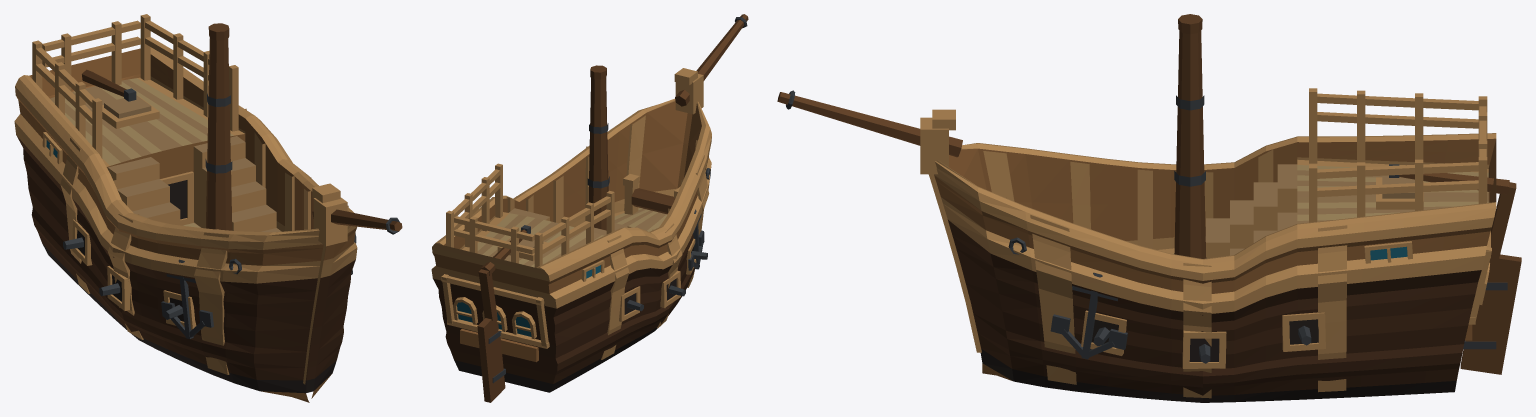
File: pirate-sloop-hull-89cd04.glb
3 views of the same model, side by side, from view 1: azimuth 30°, elevation 25°; view 2: azimuth 150°, elevation 25°; view 3: azimuth 270°, elevation 25° (orthographic). The views are drawn at different scales.
Visible parts, largest first — view 1: object 1, anchors, rudder; view 2: object 1, rudder, anchors; view 3: object 1, rudder, anchors.
Part boxes in pixels (x1,y1,x2,y2): object 1: (14, 14, 402, 402); anchors: (161, 259, 213, 338); rudder: (82, 69, 136, 101); object 1: (431, 14, 748, 392); rudder: (477, 225, 530, 402); anchors: (688, 209, 704, 270); object 1: (777, 14, 1496, 402); rudder: (1389, 164, 1521, 374); anchors: (1050, 272, 1127, 359).
Size of the model in its own units: 3.71 by 4.92 by 9.37.
